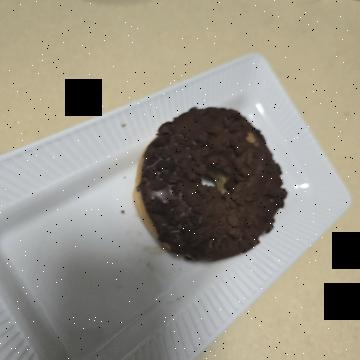doughnut: (86, 61, 274, 242)
